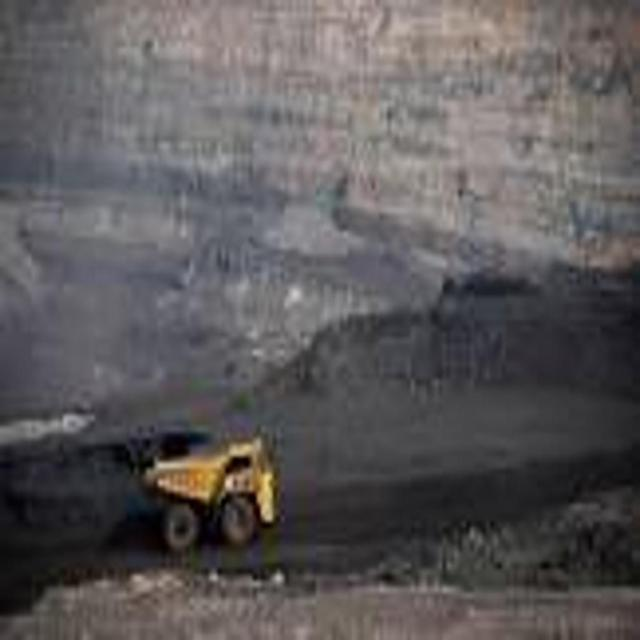dump_truck: (144, 410, 282, 568)
